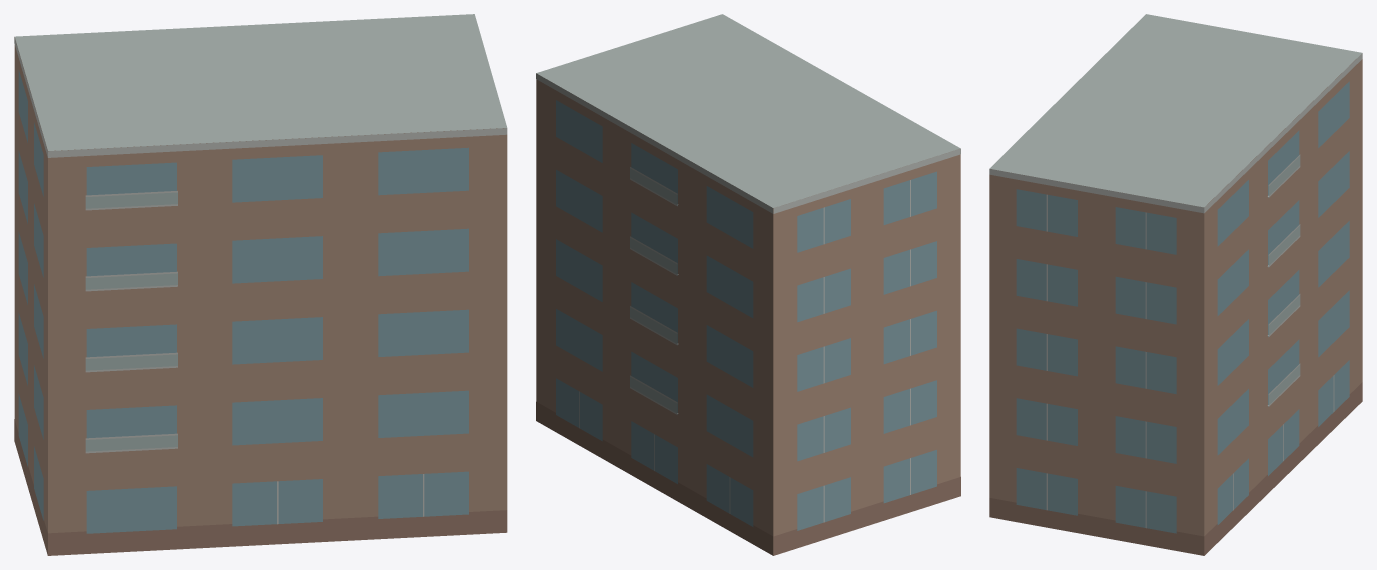
File: survey-upis-32524119.glb
3 views of the same model, side by side, from view 1: azimuth 30°, elevation 25°; view 2: azimuth 150°, elevation 25°; view 3: azimuth 270°, elevation 25° (orthographic). The views are drawn at different scales.
Parts seen in each view (by area): view 1: survey-upis-32524119.tmp; view 2: survey-upis-32524119.tmp; view 3: survey-upis-32524119.tmp.
Part boxes in pixels (x1,y1,x2,y2): survey-upis-32524119.tmp: [14, 14, 507, 555]; survey-upis-32524119.tmp: [536, 14, 960, 555]; survey-upis-32524119.tmp: [989, 14, 1362, 555].
Bounding box in the file's own units: 17.16 × 14.4 × 13.99.
